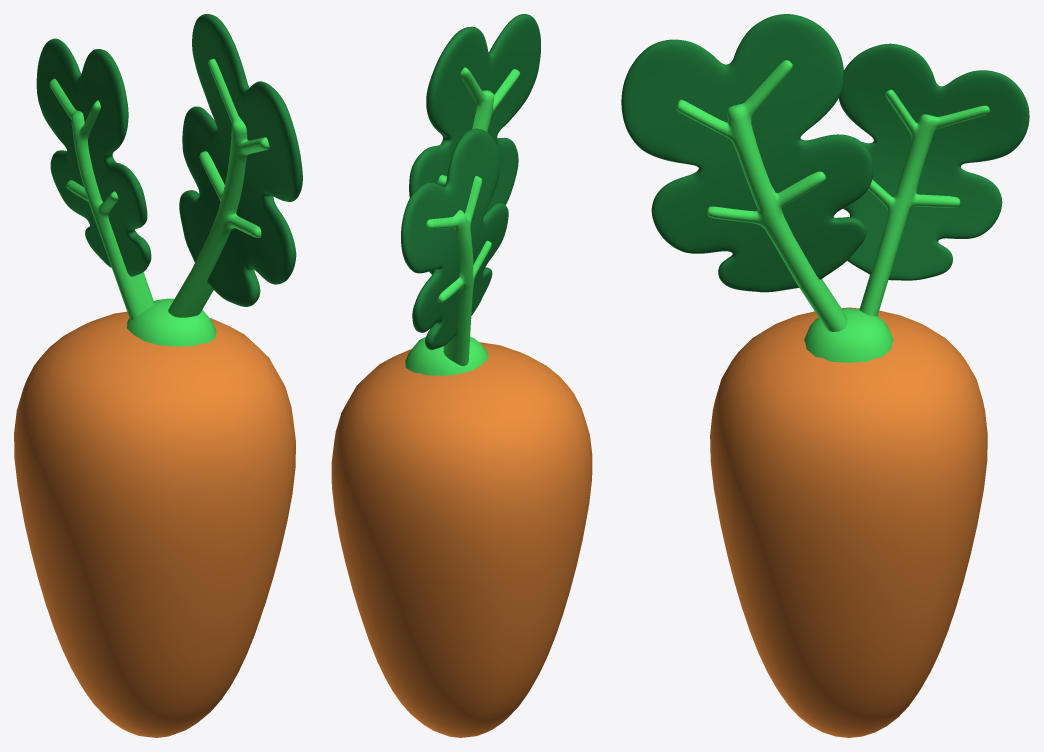
File: carrot_01.fbx
3 views of the same model, side by side, from view 1: azimuth 30°, elevation 25°; view 2: azimuth 150°, elevation 25°; view 3: azimuth 270°, elevation 25° (orthographic). The views are drawn at different scales.
Parts seen in each view (by area): view 1: Cube.025; view 2: Cube.025; view 3: Cube.025.
Boxes of the visible parts, x1,y1,x2,y2 form: Cube.025: [14, 14, 302, 737]; Cube.025: [331, 14, 592, 737]; Cube.025: [621, 14, 1029, 737].
Size of the model in its own units: 22.68 by 65.96 by 33.33.
